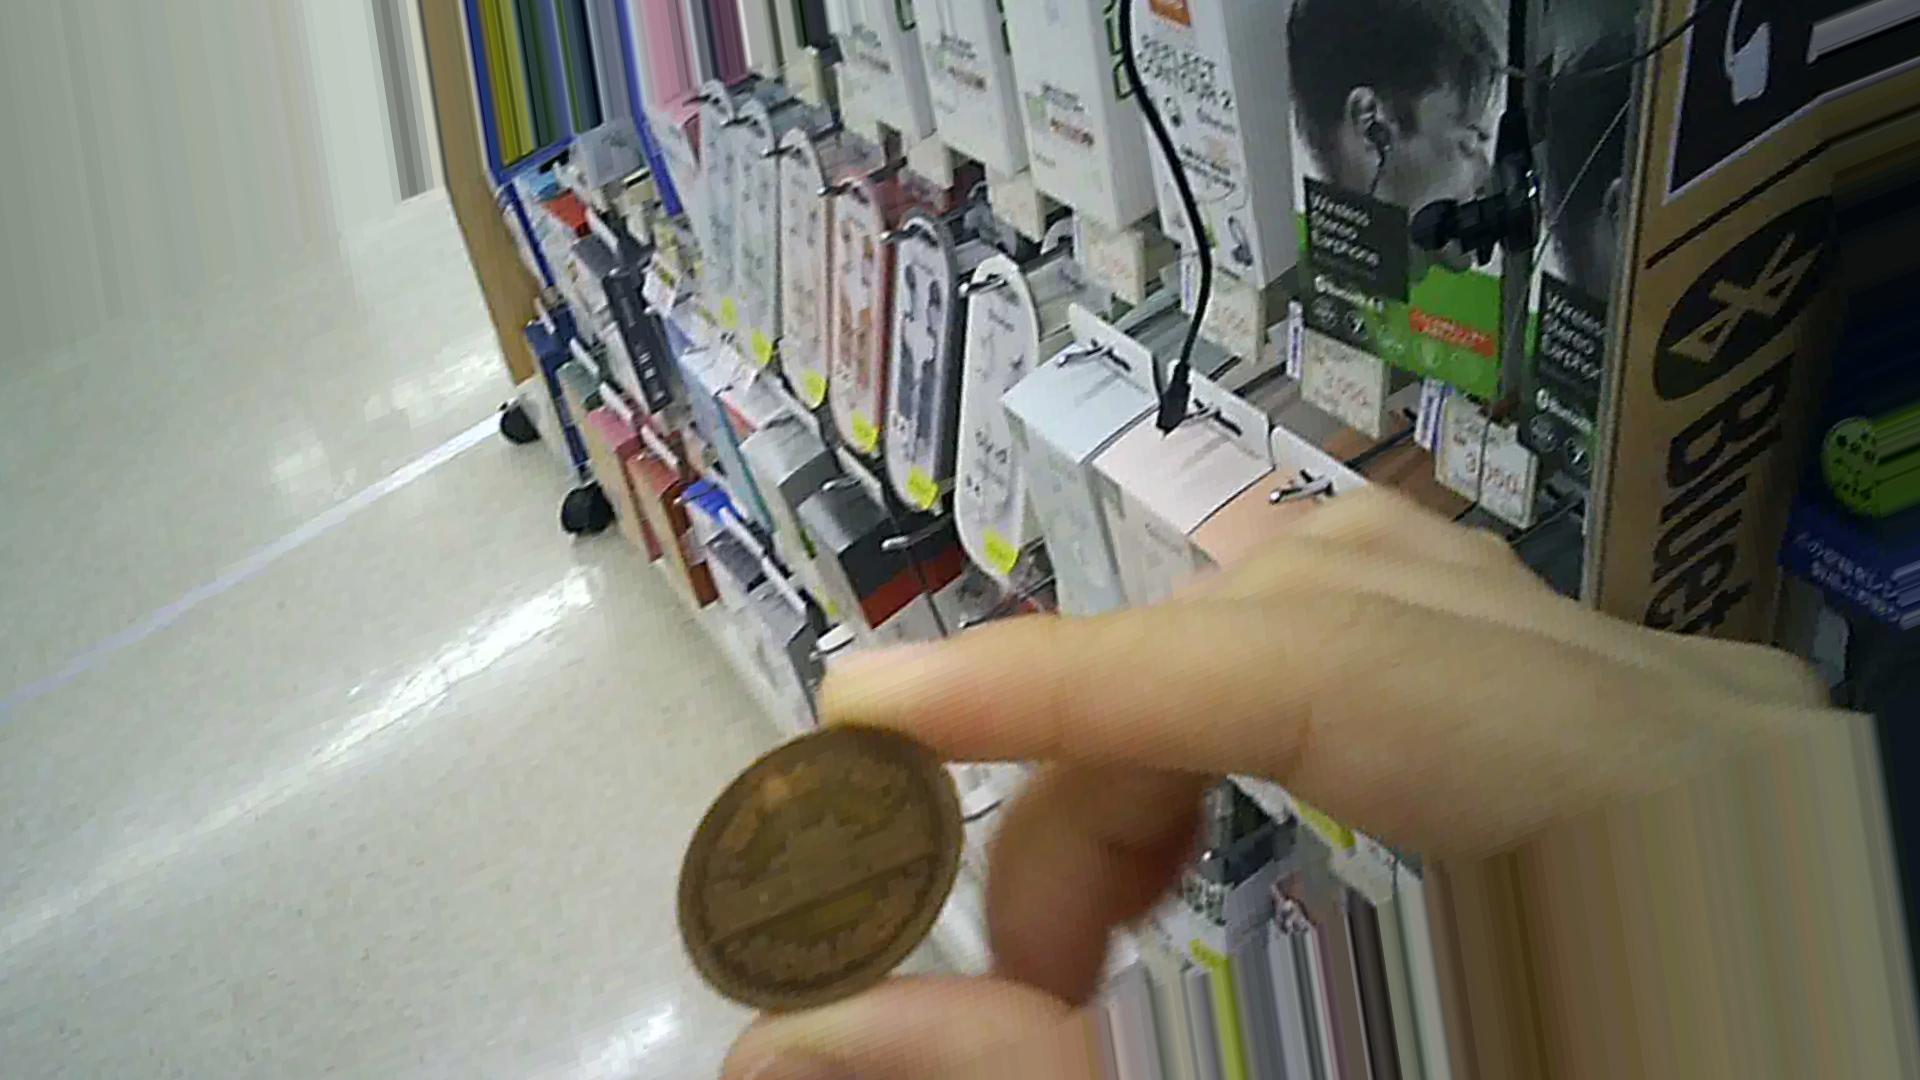10 Yen: (665, 698, 985, 1023)
